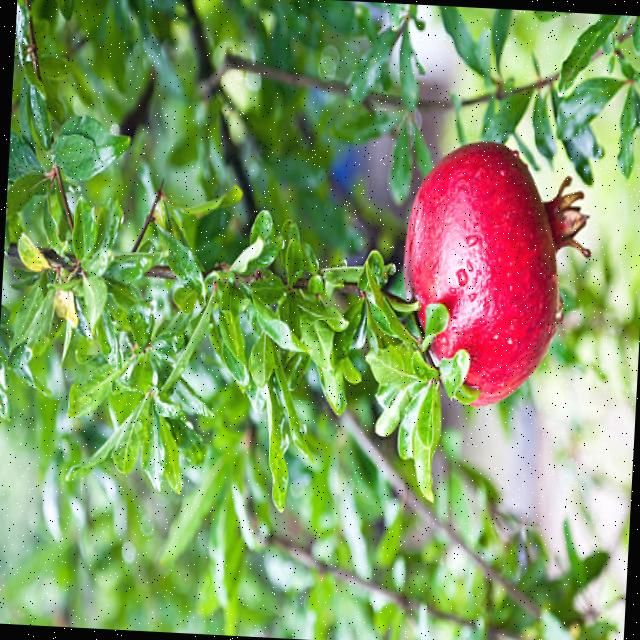Ripe: (394, 130, 588, 416)
